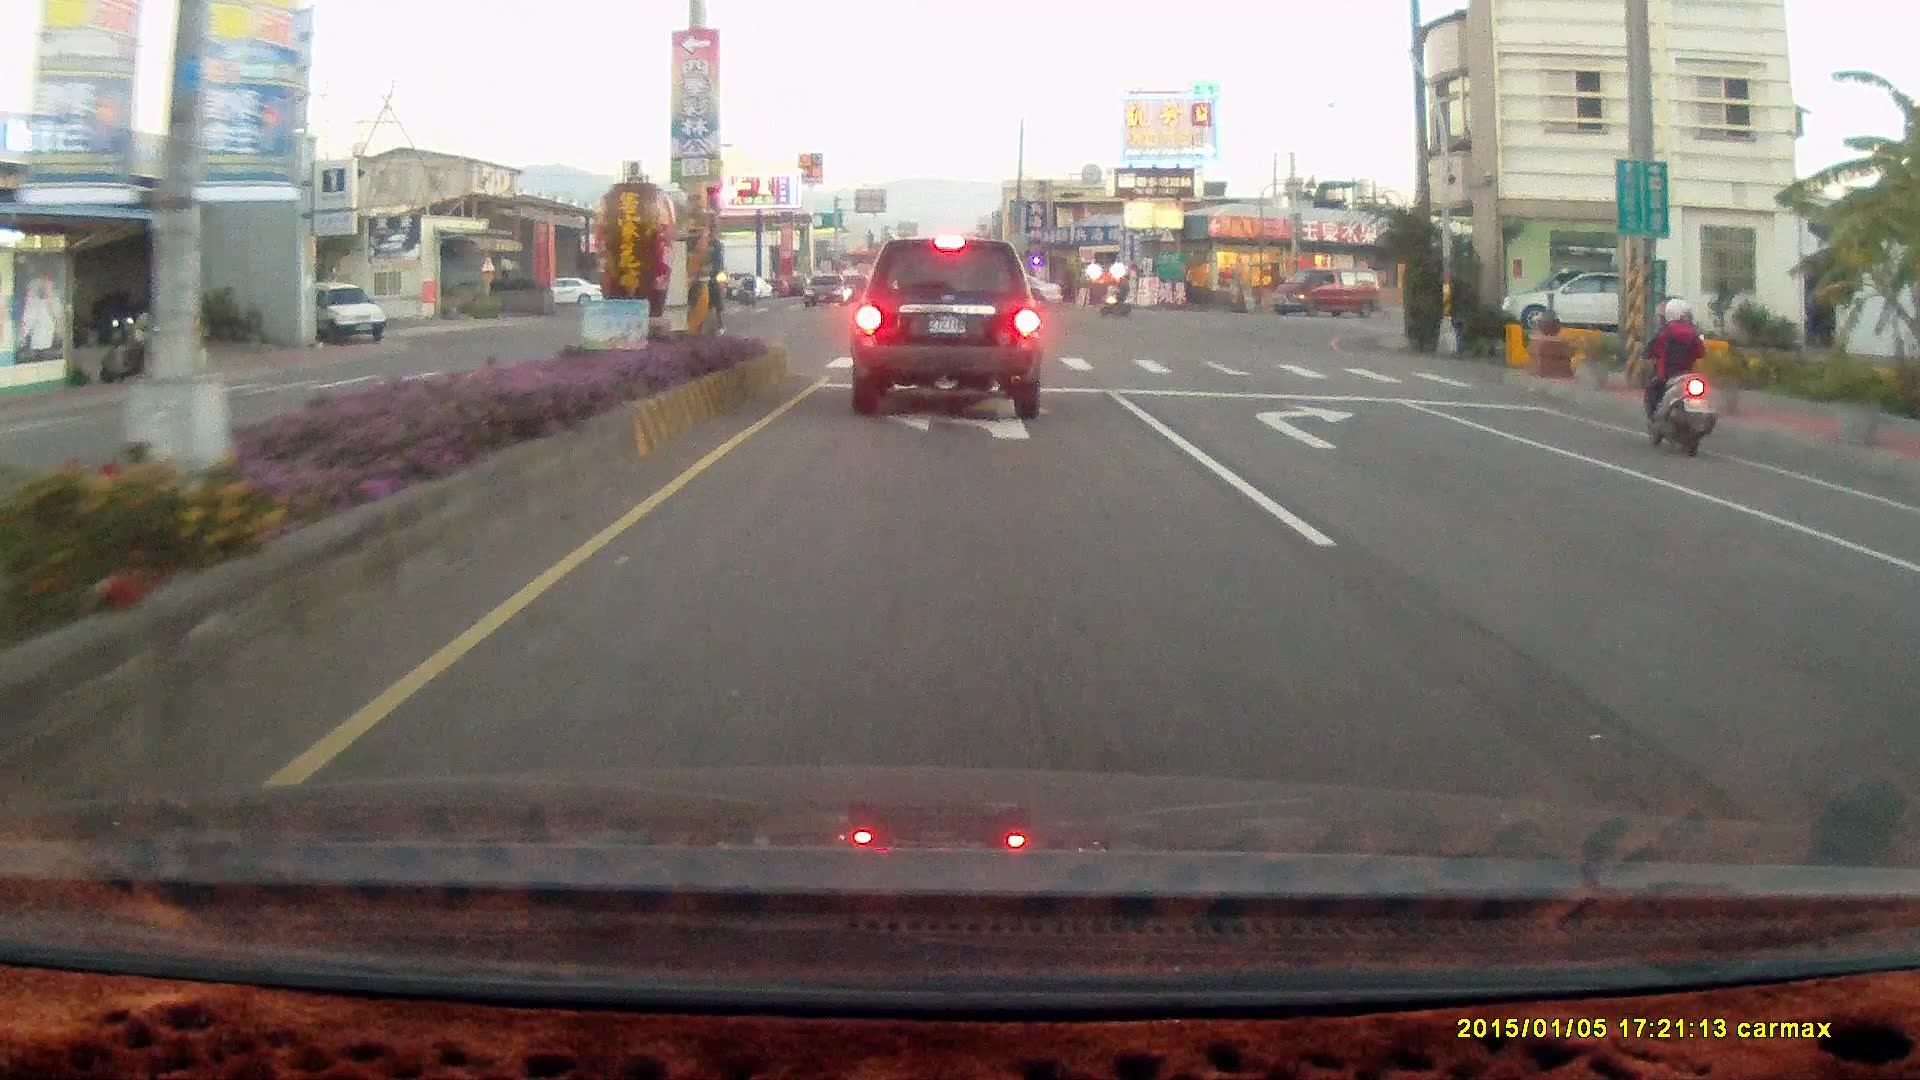rider: (1637, 292, 1714, 456), (1096, 271, 1134, 317)
vehicle: (849, 236, 1043, 418), (1499, 266, 1663, 333), (1896, 493, 1920, 836), (1501, 273, 1631, 334), (1883, 528, 1920, 690), (300, 280, 390, 345), (1270, 265, 1383, 315), (1270, 268, 1376, 317), (949, 272, 1060, 318), (948, 269, 1059, 313)
